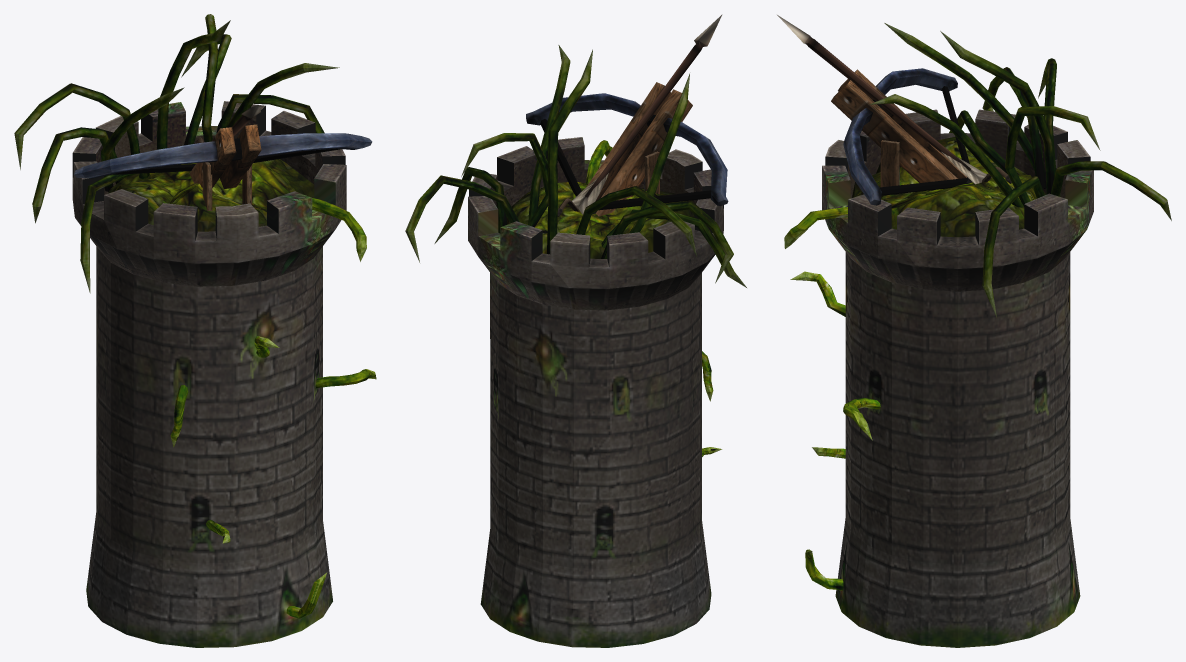
File: Fortress.fbx
3 renders of one model, left to right at view 1: azimuth 30°, elevation 25°; view 2: azimuth 150°, elevation 25°; view 3: azimuth 270°, elevation 25°, orthographic. The views are drawn at different scales.
Visible parts, largest first — view 1: Tower, Vine, Ballista; view 2: Tower, Vine, Ballista; view 3: Tower, Vine, Ballista.
Boxes of the visible parts, x1,y1,x2,y2 form: Tower: [72, 101, 346, 647]; Vine: [14, 14, 376, 618]; Ballista: [74, 104, 372, 210]; Tower: [468, 137, 723, 647]; Vine: [405, 45, 746, 456]; Ballista: [526, 14, 728, 216]; Tower: [822, 109, 1093, 647]; Vine: [784, 23, 1171, 590]; Ballista: [777, 15, 1011, 205].
Size of the model in its own units: 960 by 1684 by 1057.
Materials: 1 (1 with a texture image).
